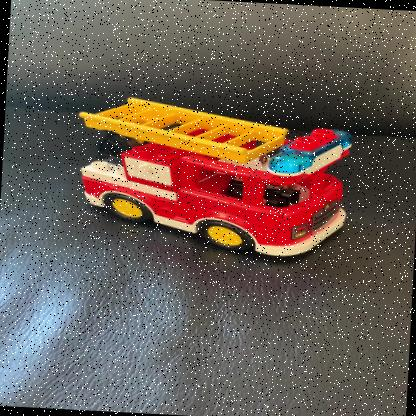lego fire truck: (67, 92, 354, 263)
